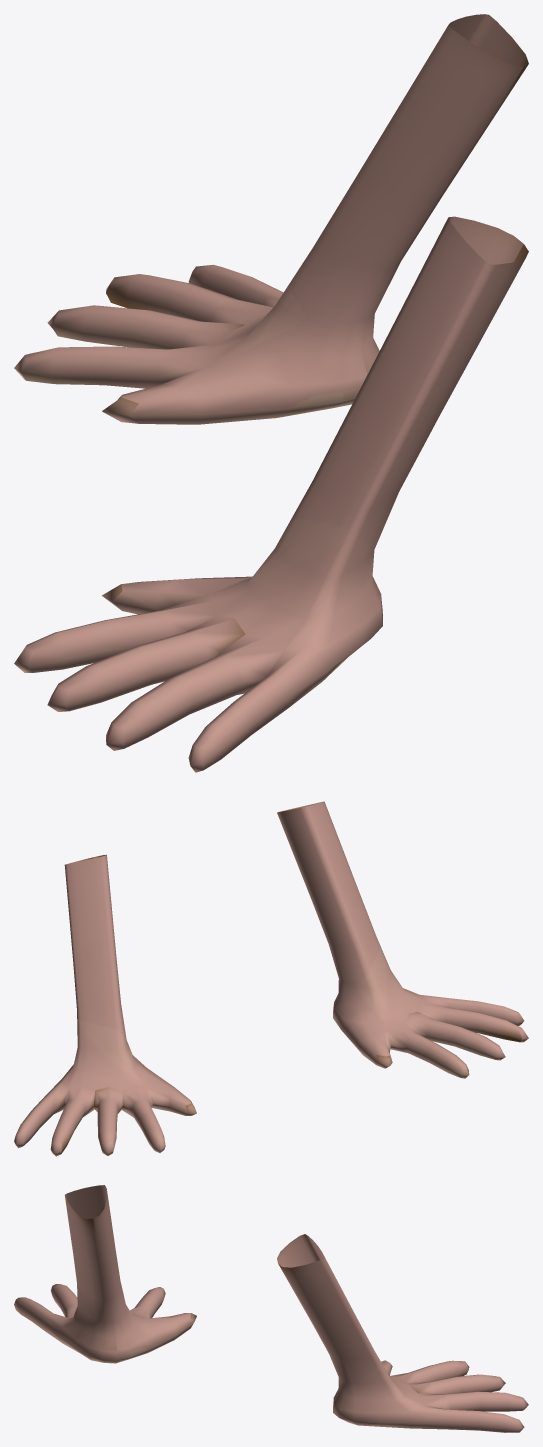
File: patas_delanteras.obj
3 views of the same model, one above another, from view 1: azimuth 30°, elevation 25°; view 2: azimuth 150°, elevation 25°; view 3: azimuth 270°, elevation 25° (orthographic). The views are drawn at different scales.
Visible parts, largest first — view 1: Maus.001, Maus.007; view 2: Maus.001, Maus.007; view 3: Maus.007, Maus.001.
Boxes of the visible parts, bbox=[...] form: Maus.001: bbox=[14, 216, 528, 772]; Maus.007: bbox=[14, 14, 528, 424]; Maus.001: bbox=[277, 801, 528, 1078]; Maus.007: bbox=[14, 854, 196, 1156]; Maus.007: bbox=[277, 1234, 528, 1432]; Maus.001: bbox=[14, 1185, 196, 1363].
Bounding box in the file's own units: 0.4752 × 0.2829 × 0.6323.
Materials: 1 (1 with a texture image).
